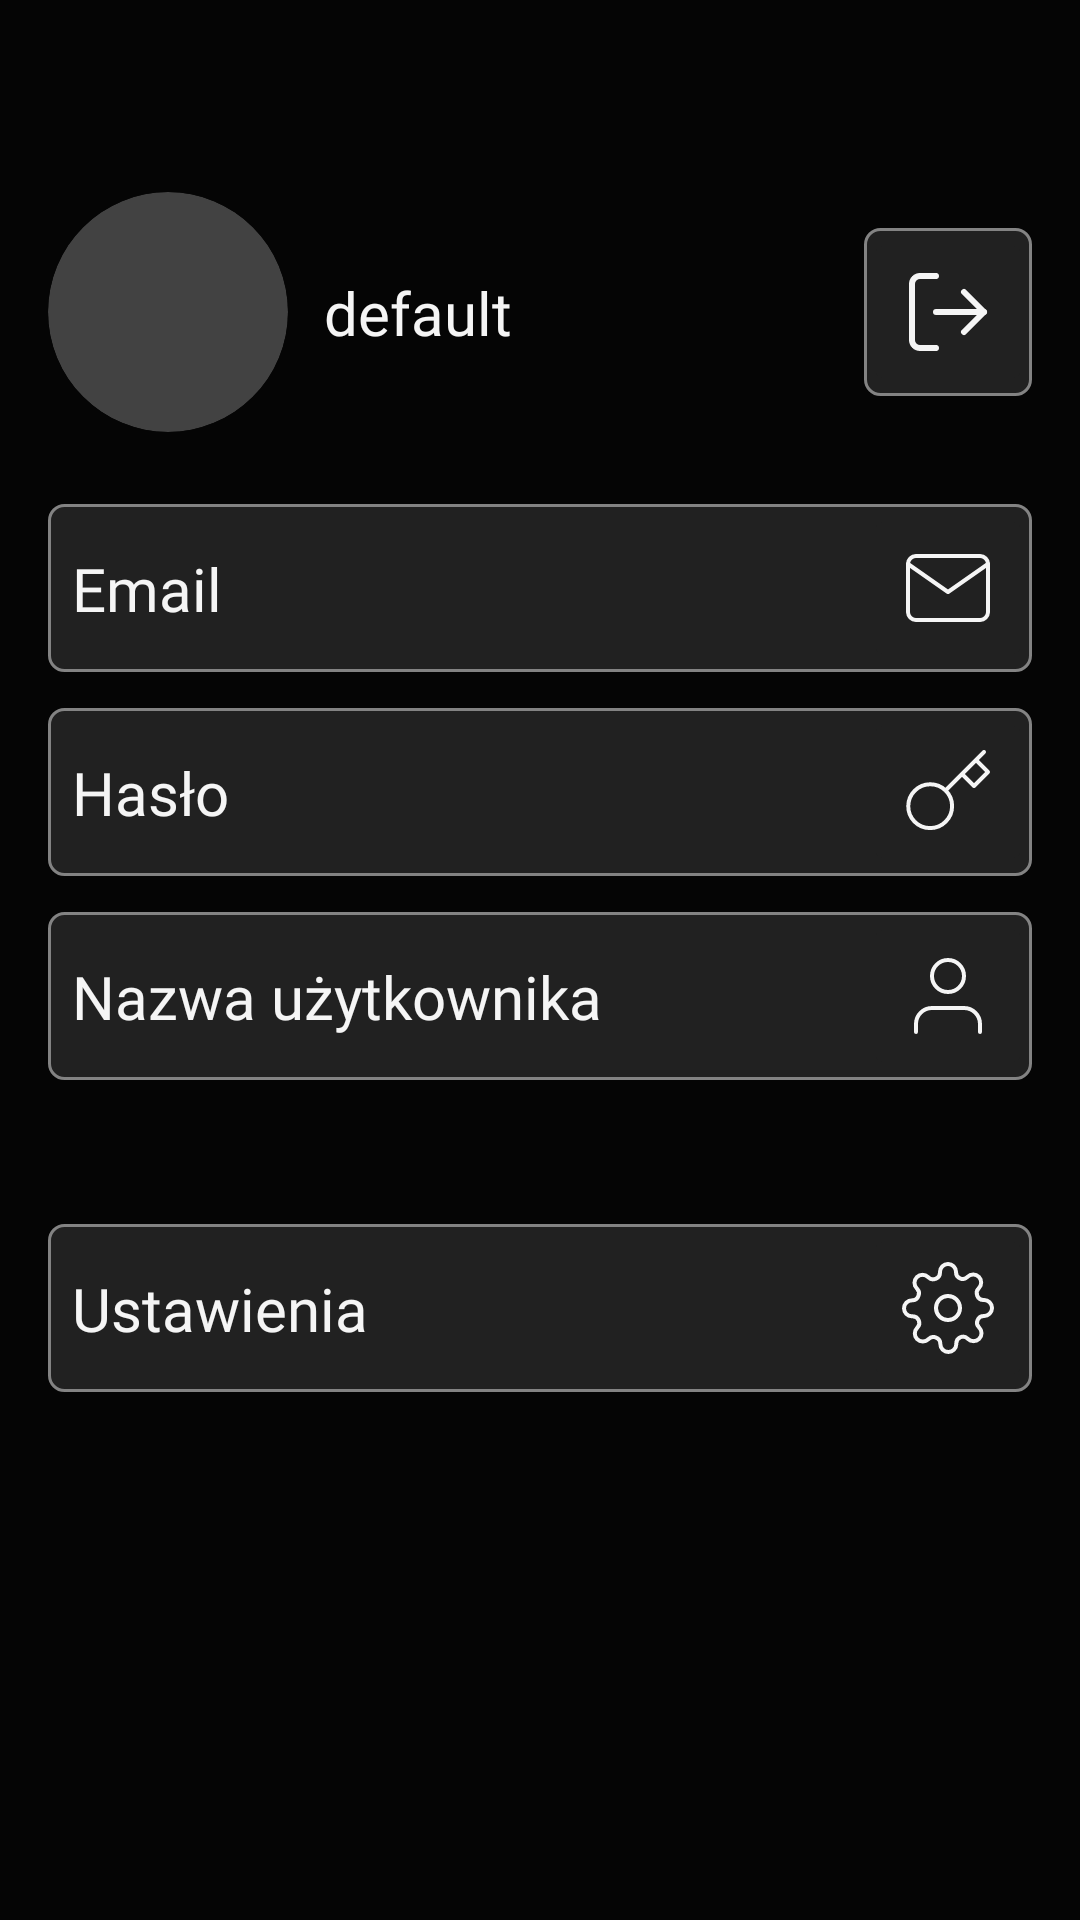

Icons on this 1080px x 1920px Android screen, each with the point to tap as (x,y):
Email: (948,588)
Password: (948,792)
Settings: (948,1308)
Username: (948,996)
